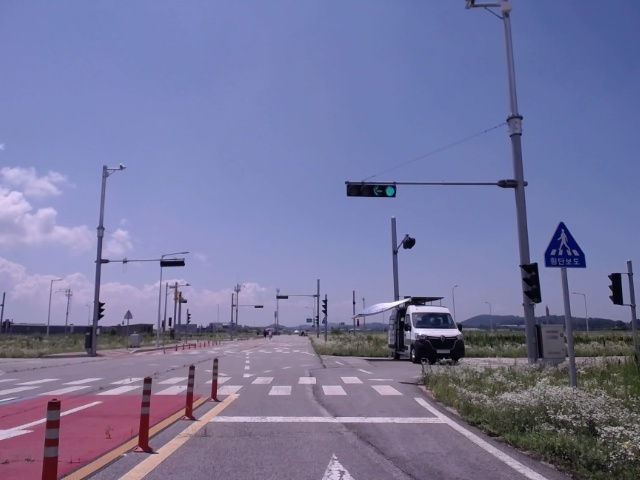all_green_4: (345, 186, 396, 195)
